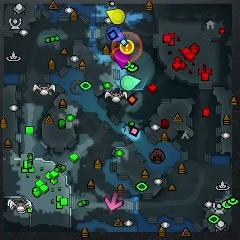Other: (120, 39, 135, 54)
p1: (105, 25, 126, 43)
p2: (120, 74, 142, 91)
p3: (113, 49, 130, 70)
p4: (104, 9, 126, 26)
p5: (112, 45, 124, 59)
x1: (104, 192, 124, 212)
